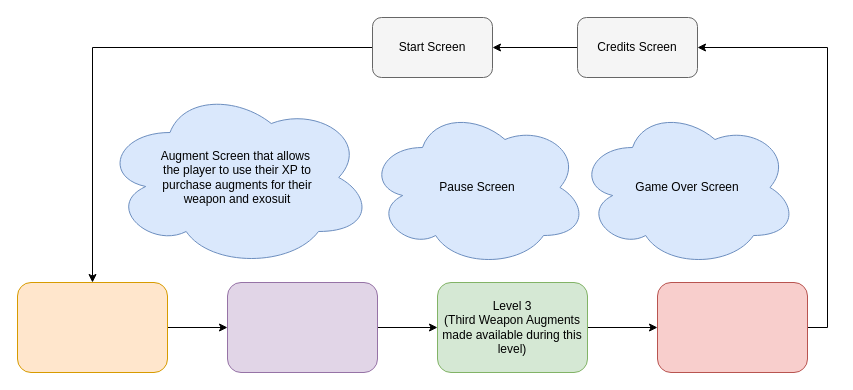
This 853x390 diagram has some shape labels left out. Each missing label, with the centre of its shape:
Level 1 (First Weapon Augments made available during this level): (x=92, y=327)
Level 2 (Second Weapon Augments made available during this level): (x=302, y=327)
Level 4 (Final level that ends with the game ending boss fight): (x=732, y=327)
